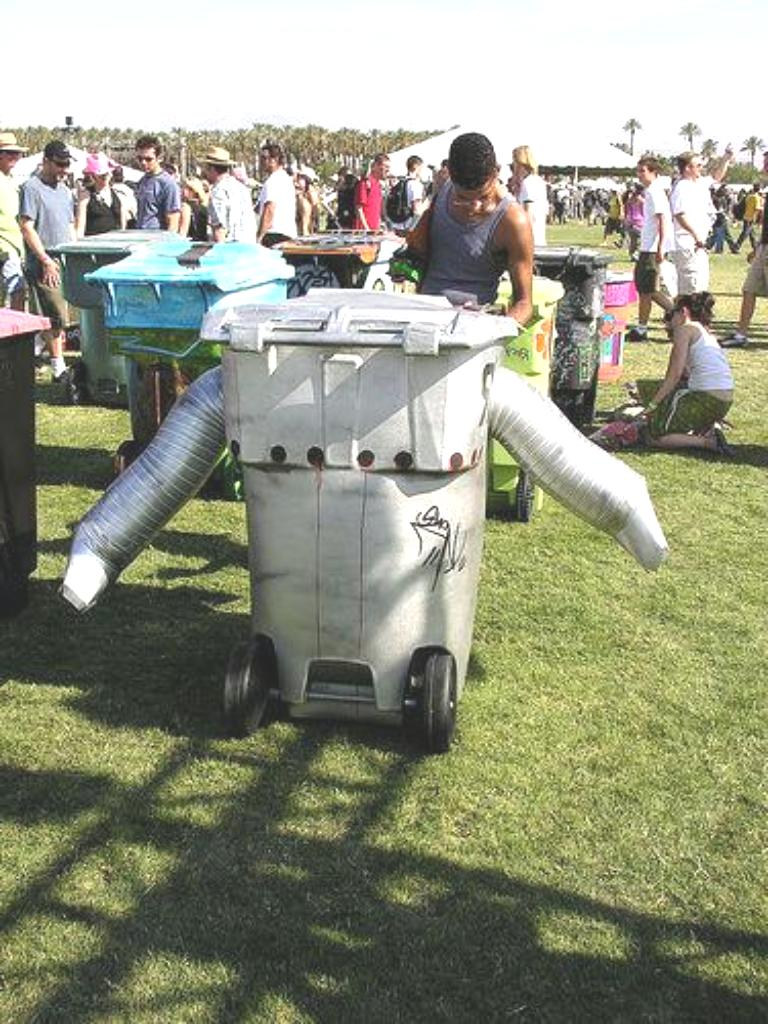dustbin: (212, 286, 516, 764)
